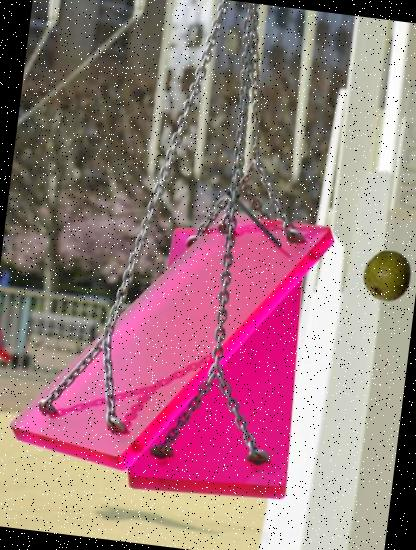Guava: (358, 247, 416, 305)
